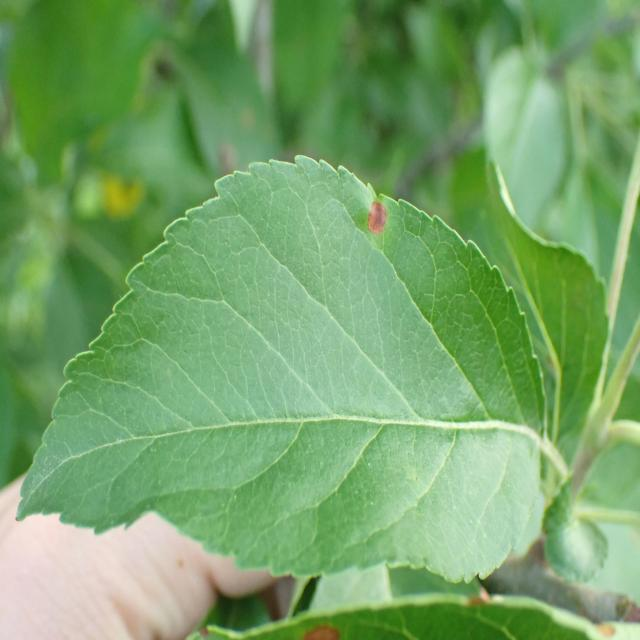Black Rot: (358, 188, 401, 248)
